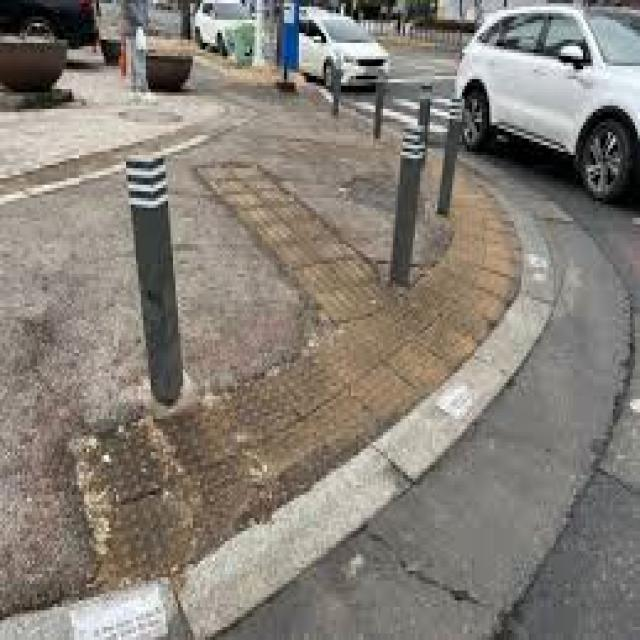bollard: (119, 146, 194, 436), (392, 122, 423, 294), (440, 94, 464, 241), (329, 45, 346, 126), (418, 73, 434, 141), (376, 57, 388, 146)
